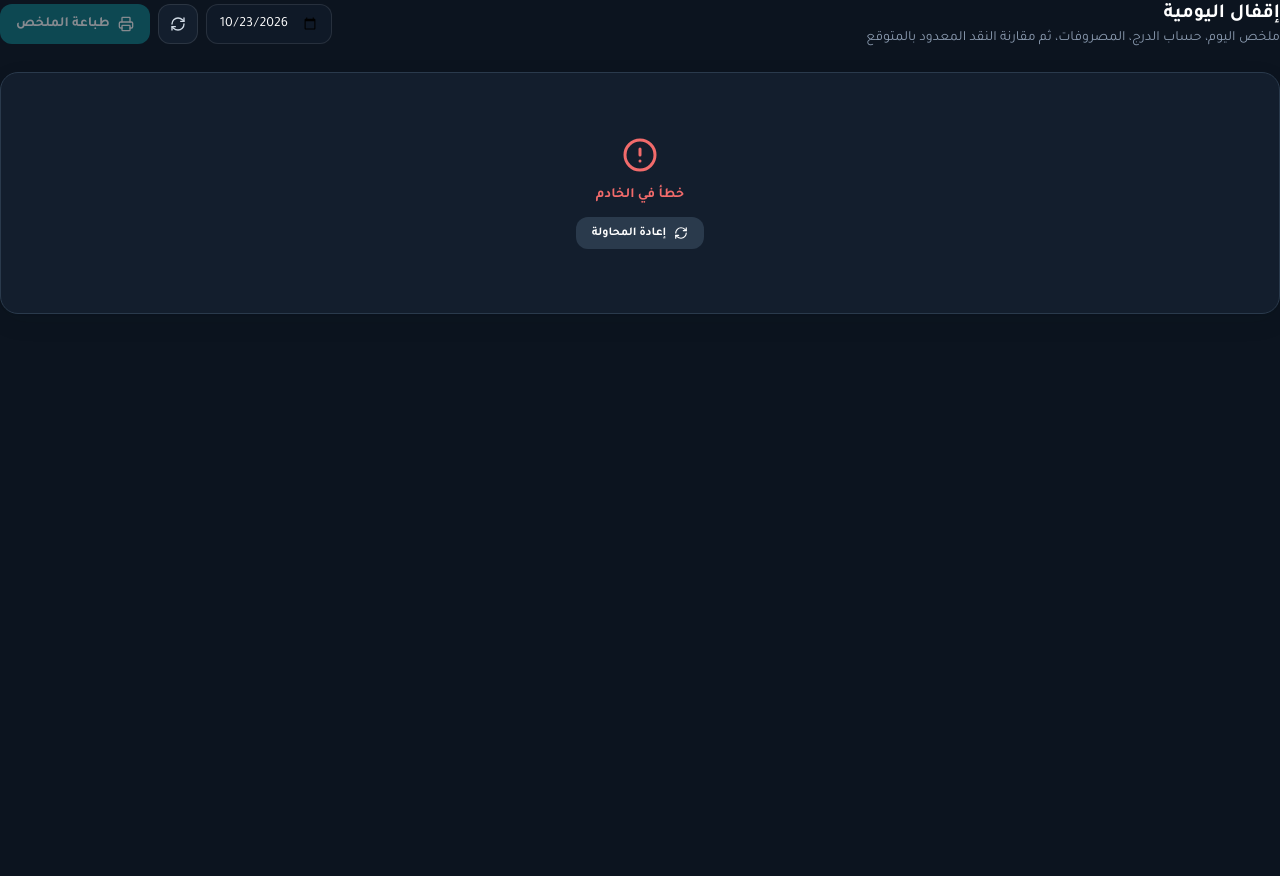
Test case: صفحة إقفال اليومية › خطأ تحميل الملخص يعرض رسالة مع إعادة المحاولة
The width and height of the screenshot is (1280, 876).
Expected: the text "خطأ في الخادم" is shown, [596,185,684,205]
Click the button "إعادة المحاولة": (640, 233) [576,217,704,249]
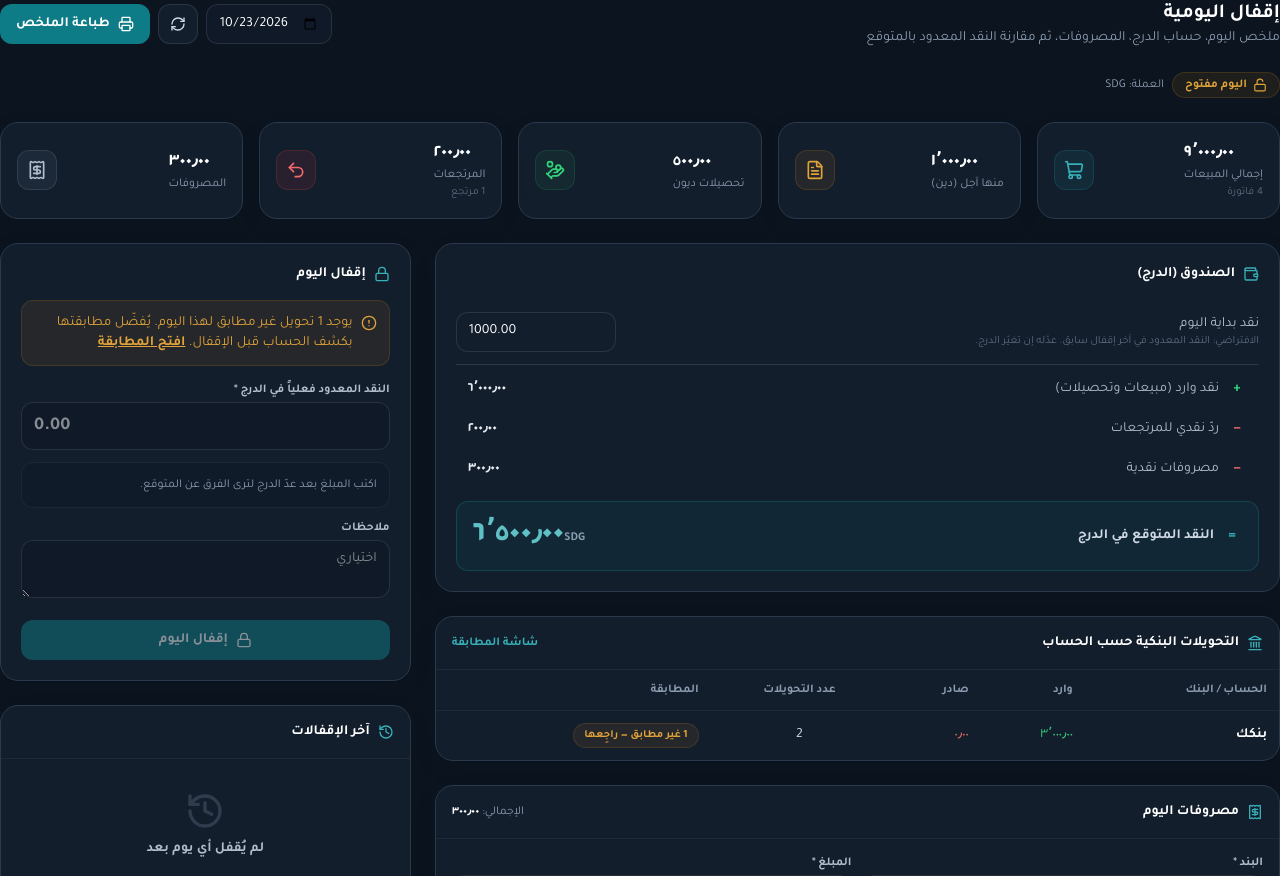
Expected: the field labelled "نقد بداية اليوم" is shown, [456,312,616,352]
